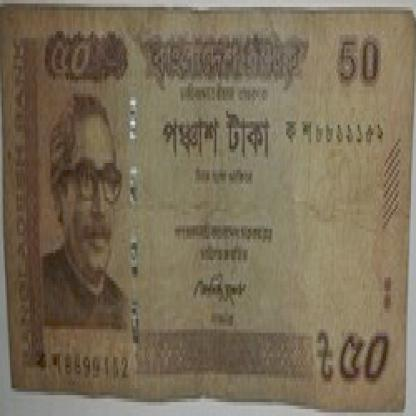Fifty taka: (313, 315, 403, 392), (38, 24, 106, 97)
